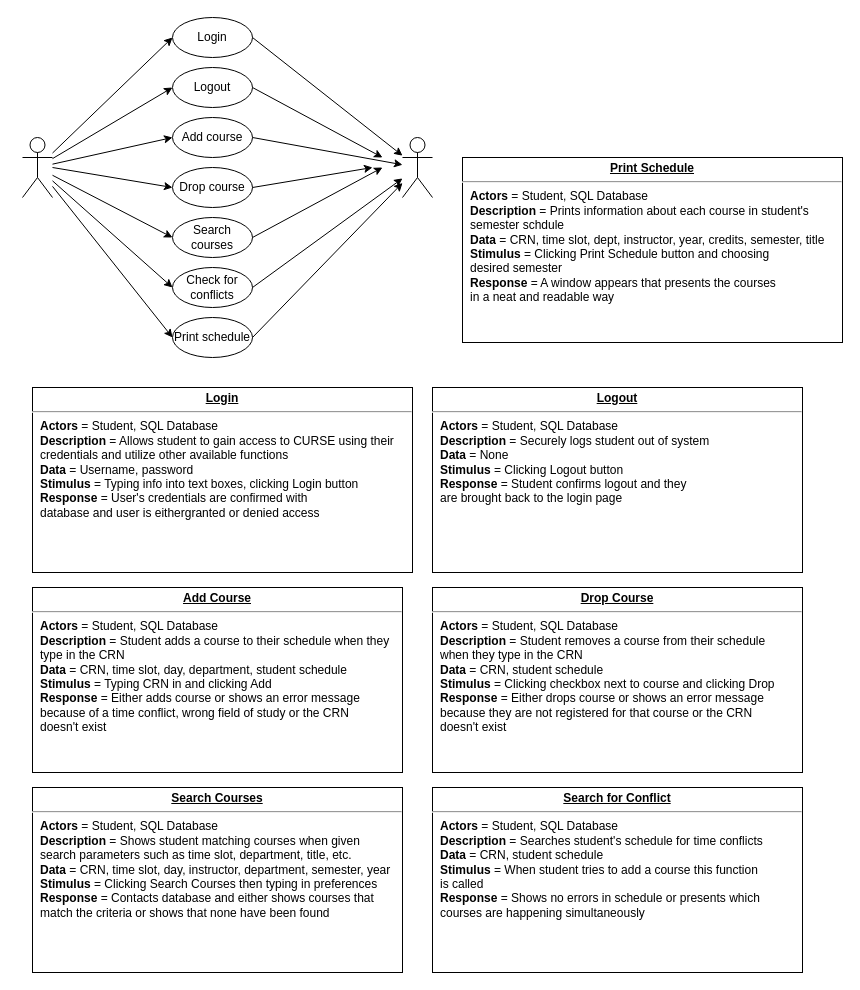
This 860x990 diagram has some shape labels left out. Each missing label, with the box of its shape:
SQL Database: (402, 136, 432, 198)
Student: (22, 136, 52, 198)
